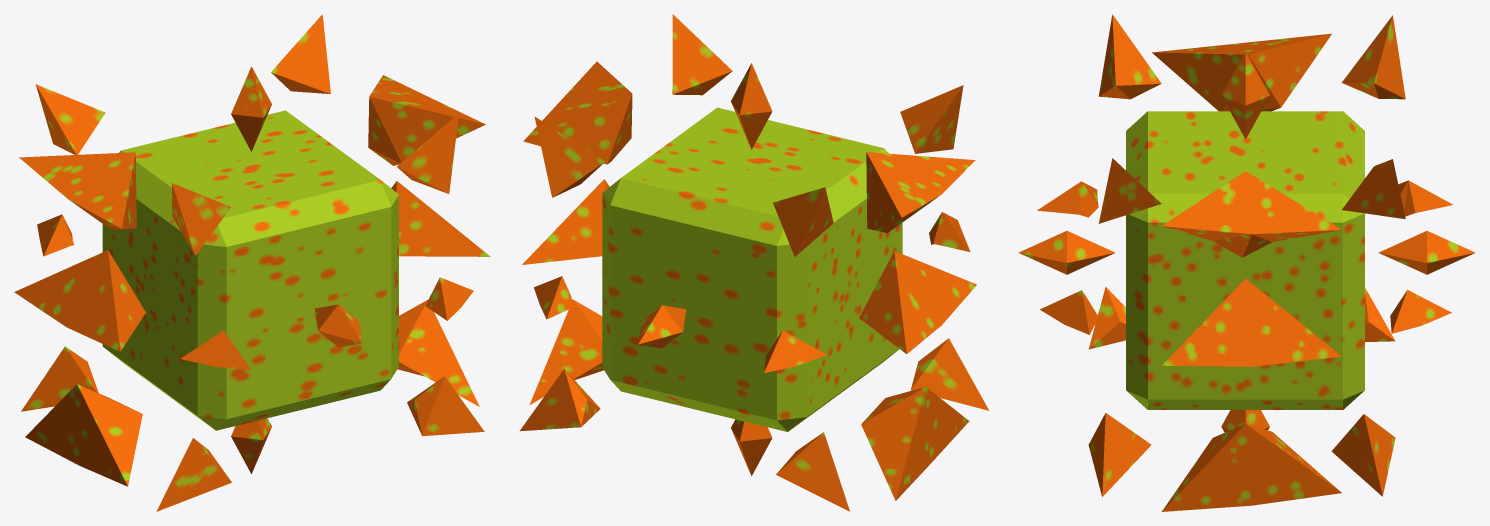
Rendered from obstaculo_desviar_2.fbx.
3 views of the same model, side by side, from view 1: azimuth 30°, elevation 25°; view 2: azimuth 150°, elevation 25°; view 3: azimuth 270°, elevation 25° (orthographic). The views are drawn at different scales.
Visible parts, largest first — view 1: Desviar 2; view 2: Desviar 2; view 3: Desviar 2.
Part boxes in pixels (box(x1,y1,x2,y2)): Desviar 2: box(14, 14, 490, 511); Desviar 2: box(520, 14, 989, 511); Desviar 2: box(1018, 14, 1475, 511).
Bounding box in the file's own units: 168 × 166 × 164.
